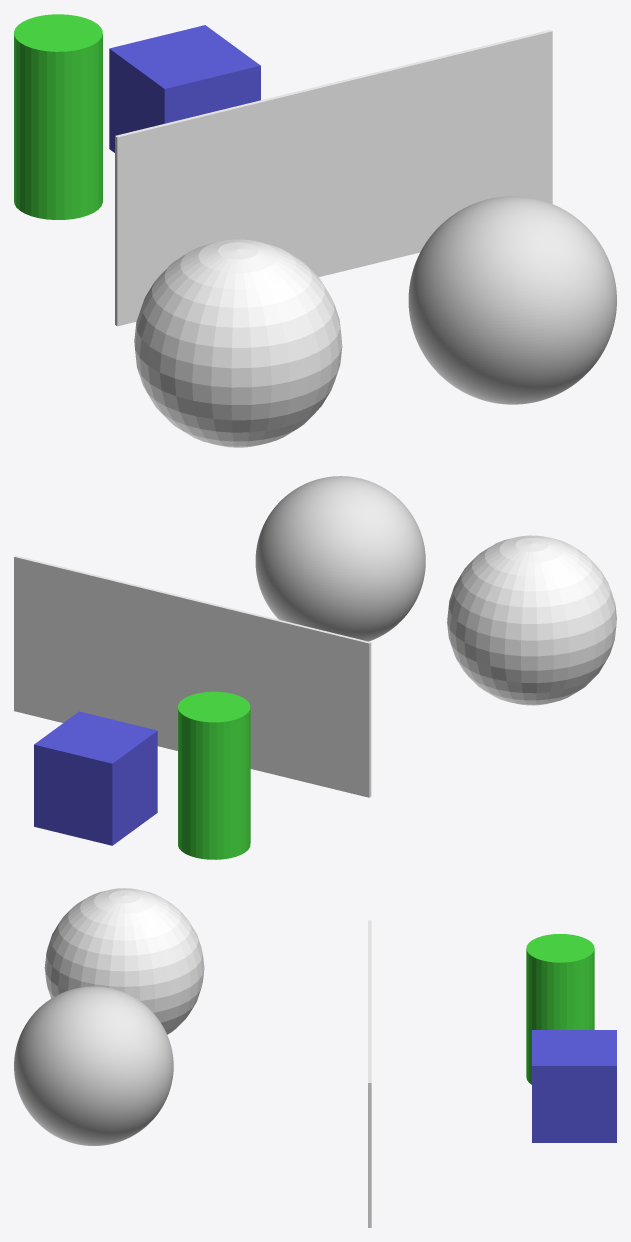
File: ball_mirror.glb
The picture shows the model from 3 angles, top to bottom: view 1: azimuth 30°, elevation 25°; view 2: azimuth 150°, elevation 25°; view 3: azimuth 270°, elevation 25°; orthographic projection. The views are drawn at different scales.
Parts seen in each view (by area): view 1: mirror, Sphere.002, Sphere, Cylinder, Cube.005; view 2: mirror, Sphere, Sphere.002, Cube.005, Cylinder; view 3: Sphere.002, Sphere, Cube.005, Cylinder, mirror.
Boxes of the visible parts, <box> form: mirror: <box>115,30,552,326</box>; Sphere.002: <box>408,196,616,404</box>; Sphere: <box>134,239,342,447</box>; Cylinder: <box>14,14,102,219</box>; Cube.005: <box>109,25,260,152</box>; mirror: <box>14,555,371,797</box>; Sphere: <box>447,535,616,705</box>; Sphere.002: <box>255,476,425,641</box>; Cube.005: <box>34,711,157,845</box>; Cylinder: <box>178,691,250,859</box>; Sphere.002: <box>14,986,173,1145</box>; Sphere: <box>44,888,204,1034</box>; Cube.005: <box>532,1030,616,1142</box>; Cylinder: <box>526,934,594,1084</box>; mirror: <box>368,920,371,1227</box>.
Size of the model in its own units: 6.24 by 2.15 by 7.55.
